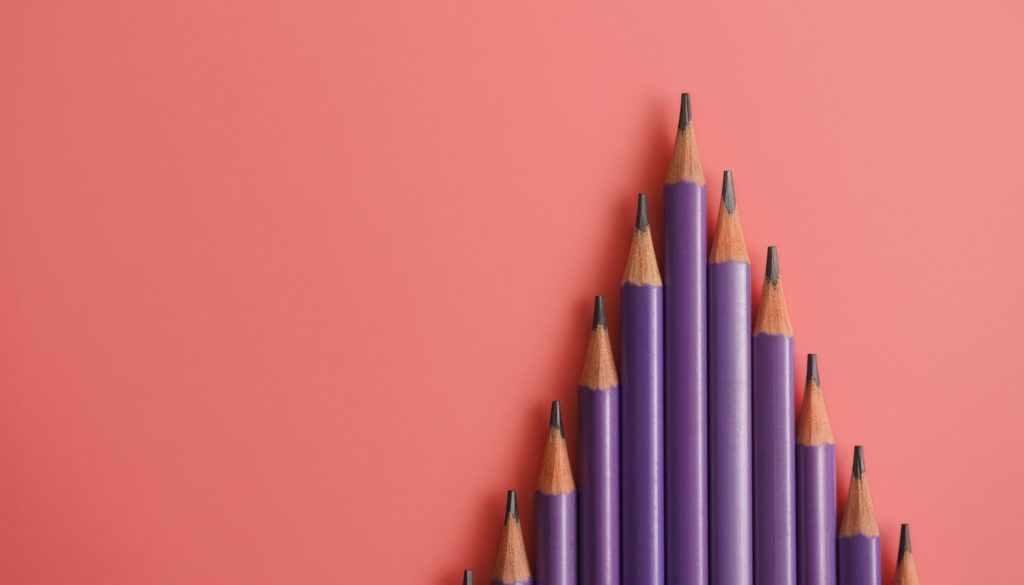pencil: (378, 40, 1001, 585)
